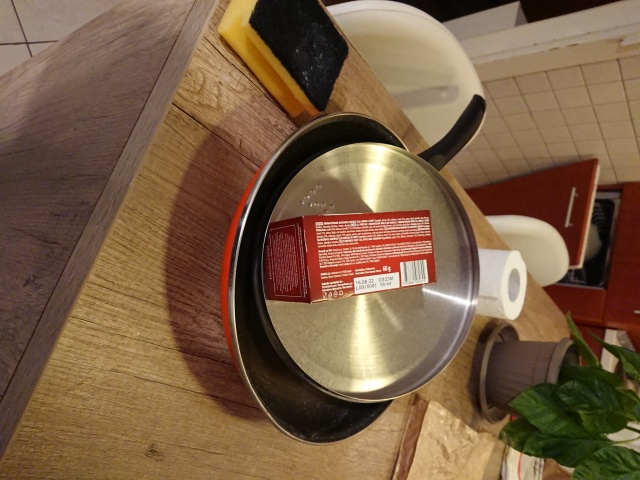Franck Apple Cinnamon Tea 60g: (257, 207, 440, 307)
